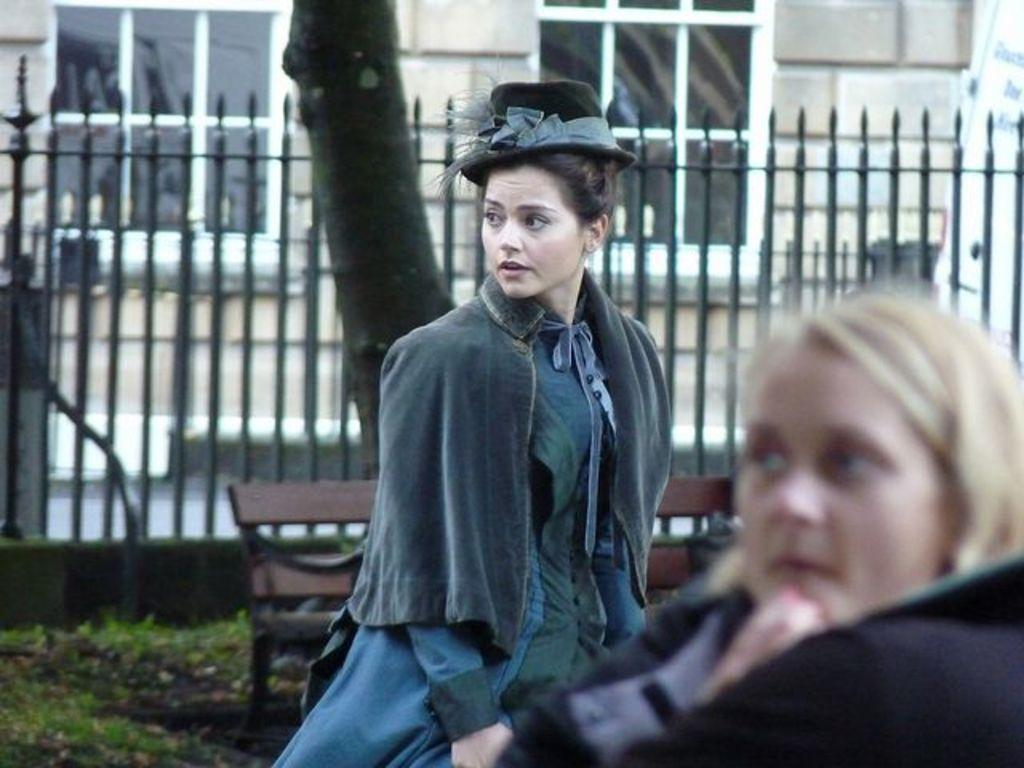Hat: (420, 78, 638, 187)
